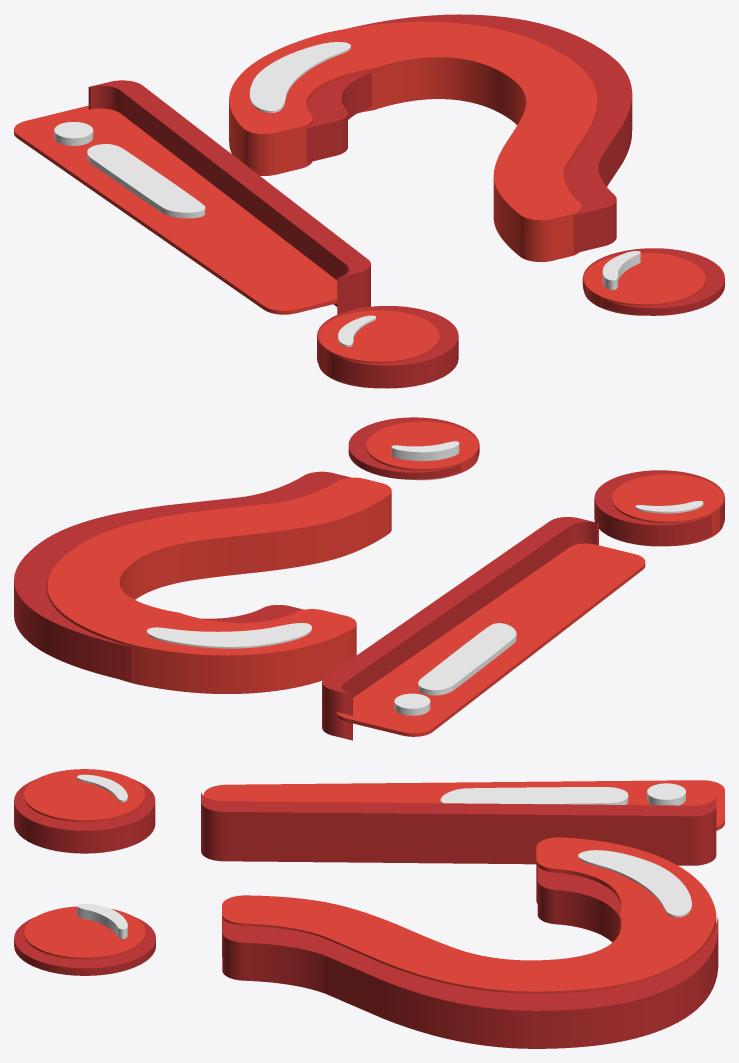
File: emoji_u2049.glb
3 renders of one model, top to bottom at view 1: azimuth 30°, elevation 25°; view 2: azimuth 150°, elevation 25°; view 3: azimuth 270°, elevation 25°, orthographic. The views are drawn at different scales.
Visible parts, largest first — view 1: emoji_u2049; view 2: emoji_u2049; view 3: emoji_u2049.
Boxes of the visible parts, x1=… form: emoji_u2049: x1=14, y1=14, x2=724, y2=388; emoji_u2049: x1=14, y1=417, x2=724, y2=740; emoji_u2049: x1=14, y1=769, x2=724, y2=1048.
Size of the model in its own units: 0.0279 by 0.0026 by 0.0339.
